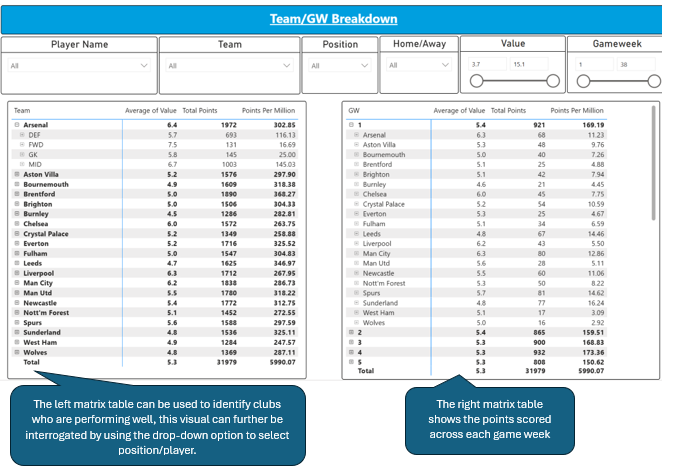

The dashboard page shown, as its layout file describes it:
{"tool":"powerbi","page":{"name":"Team/GW Breakdown","canvas":[1280,720],"ordinal":7},"visuals":[{"type":"group","id":"g1","title":"Group 1","box":[0,58.2,1280,112.9],"z":0},{"type":"textbox","box":[0,0,1280,55.6],"z":1000},{"type":"slicer","title":"Team","fields":{"Values":["FPL_predicted_point.team"]},"box":[303.9,60,271.6,111.1],"z":1000,"group":"g1"},{"type":"slicer","title":"Position","fields":{"Values":["FPL_predicted_point.position","FPL_predicted_point.name"]},"box":[578.2,60,147,110.3],"z":2000,"group":"g1"},{"type":"pivotTable","fields":{"Rows":["FPL_predicted_point.Team","FPL_predicted_point.Position","FPL_predicted_point.Name","FPL_predicted_point.GW"],"Values":["Avg(FPL_predicted_point.Value)","Sum(FPL_predicted_point.Actual/Predicted Points)","Sum(FPL_predicted_point.Points Per Million)"]},"box":[12.7,184.1,575.2,534.6],"z":2000},{"type":"slicer","title":"Gameweek","fields":{"Values":["FPL_predicted_point.GW"]},"box":[1088.2,59.1,191.8,110.3],"z":3000,"group":"g1"},{"type":"pivotTable","fields":{"Rows":["FPL_predicted_point.GW","FPL_predicted_point.Team","FPL_predicted_point.Position","FPL_predicted_point.Name"],"Values":["Avg(FPL_predicted_point.Value)","Sum(FPL_predicted_point.Actual/Predicted Points)","Sum(FPL_predicted_point.Points Per Million)"]},"box":[655.2,184.1,612.1,535.9],"z":3000},{"type":"slicer","title":"Value","fields":{"Values":["FPL_predicted_point.value"]},"box":[882.9,58.2,202.6,111.1],"z":4000,"group":"g1"},{"type":"slicer","title":"Home/Away","fields":{"Values":["FPL_predicted_point.Home/Away"]},"box":[727.8,59.1,152.4,111.1],"z":5000,"group":"g1"},{"type":"slicer","title":"Player Name","fields":{"Values":["FPL_predicted_point.name"]},"box":[0,60,301.2,111.1],"z":6000,"group":"g1"}]}

Visuals, with their boxes in screenshot pixels (x1, y1, x2, y2):
"Group 1" group: 0,34,665,93
textbox: 0,4,665,32
"Team" slicer: 157,35,298,93
"Position" slicer: 299,35,376,92
pivotTable - FPL_predicted_point.Team x FPL_predicted_point.Position: 5,99,304,378
"Gameweek" slicer: 565,34,665,92
pivotTable - FPL_predicted_point.GW x FPL_predicted_point.Team: 339,99,658,379
"Value" slicer: 458,34,564,92
"Home/Away" slicer: 377,34,457,92
"Player Name" slicer: 0,35,155,93
